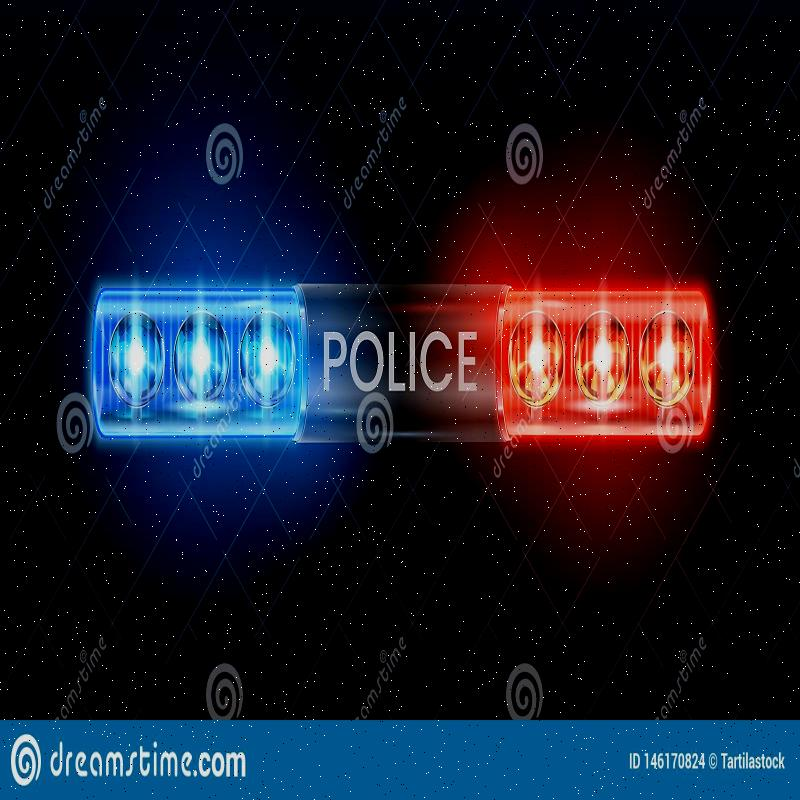AmbulanceSiren: (78, 219, 728, 485)
